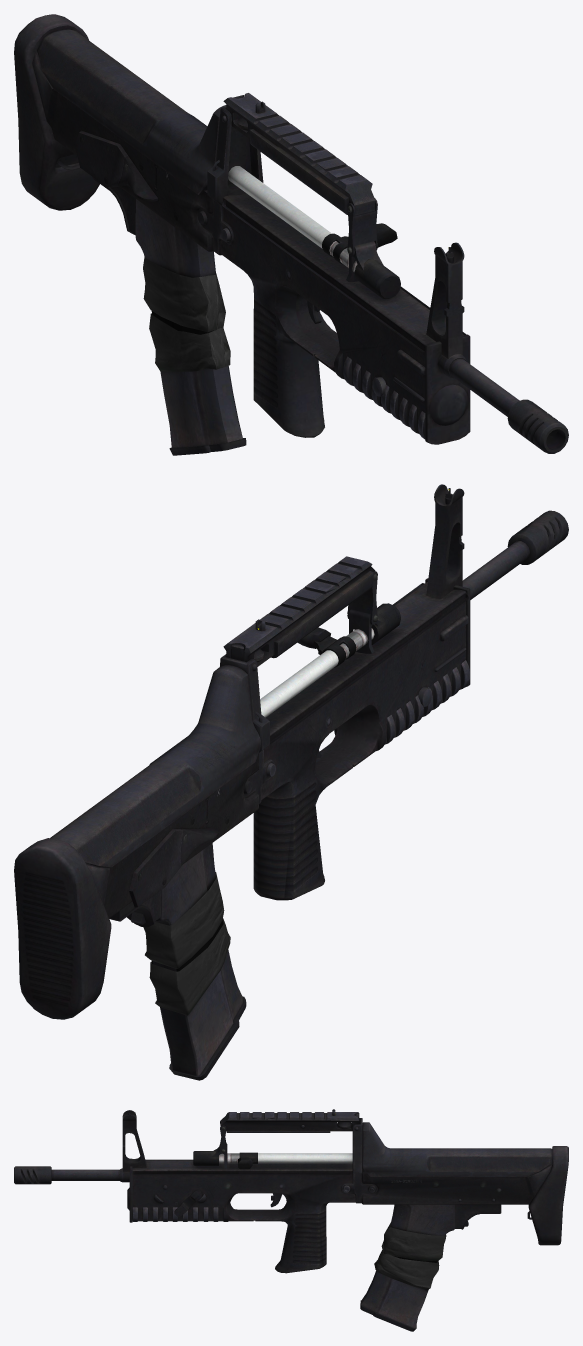
3 renders of one model, top to bottom at view 1: azimuth 30°, elevation 25°; view 2: azimuth 150°, elevation 25°; view 3: azimuth 270°, elevation 25°, orthographic. The views are drawn at different scales.
Visible parts, largest first — view 1: Mesh_0010, Mag, Bolt; view 2: Mesh_0010, Mag, Bolt; view 3: Mesh_0010, Mag, Bolt.
Boxes of the visible parts, left/top/right/bottom form: Mesh_0010: left=14, top=14, right=568, bottom=453; Mag: left=135, top=199, right=246, bottom=455; Bolt: left=228, top=166, right=397, bottom=271; Mesh_0010: left=14, top=484, right=568, bottom=1019; Mag: left=143, top=843, right=246, bottom=1080; Bolt: left=260, top=627, right=374, bottom=717; Mesh_0010: left=14, top=1109, right=568, bottom=1273; Mag: left=360, top=1204, right=454, bottom=1331; Bolt: left=219, top=1152, right=352, bottom=1169.
Size of the model in its own units: 6.56 by 28.64 by 66.
3 materials, 3 textured.
